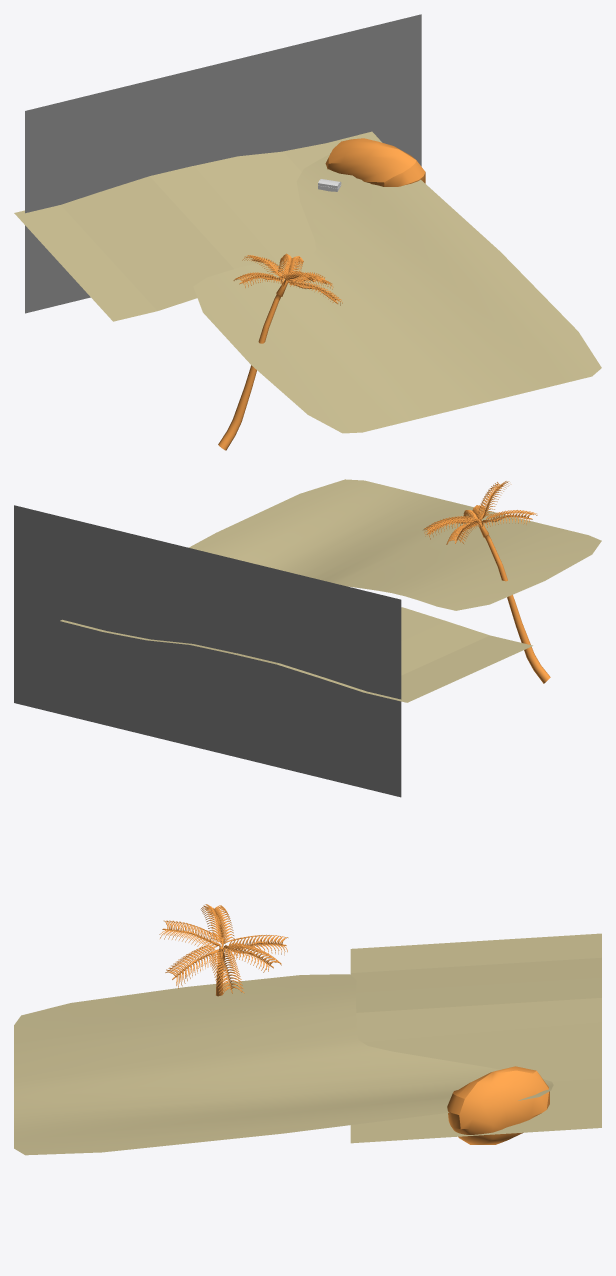
Rendered from props.fbx.
The picture shows the model from 3 angles, top to bottom: view 1: azimuth 30°, elevation 25°; view 2: azimuth 150°, elevation 25°; view 3: azimuth 270°, elevation 25°; orthographic projection. The views are drawn at different scales.
Visible parts, largest first — view 1: Plane, Plane.002, Plane.001, Cenario_Pedra_1, Coqueiros; view 2: Plane.002, Plane, Plane.001, Coqueiros; view 3: Plane, Plane.001, Cenario_Pedra_1, Coqueiros.
Part boxes in pixels (box(x1,y1,x2,y2)): Plane: box(193, 154, 601, 433); Plane.002: box(25, 14, 421, 313); Plane.001: box(14, 131, 382, 321); Cenario_Pedra_1: box(325, 138, 425, 186); Coqueiros: box(218, 253, 342, 450); Plane.002: box(14, 505, 401, 797); Plane: box(189, 479, 601, 610); Plane.001: box(60, 607, 532, 702); Coqueiros: box(423, 481, 550, 683); Plane: box(14, 974, 553, 1155); Plane.001: box(350, 933, 601, 1143); Cenario_Pedra_1: box(447, 1066, 549, 1144); Coqueiros: box(159, 904, 288, 996).
Size of the model in its own units: 801 by 399 by 882.
